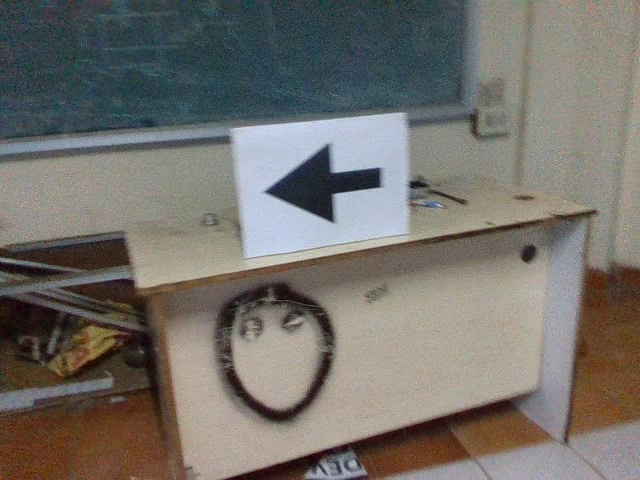Left: (253, 134, 387, 226)
